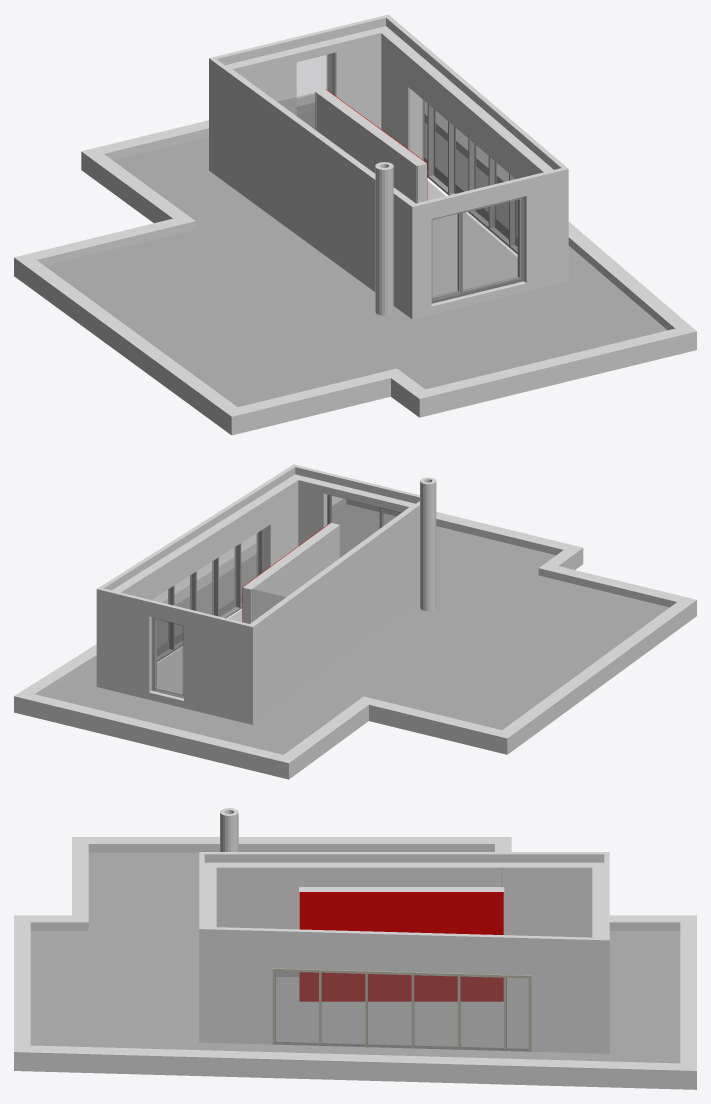
3 renders of one model, top to bottom at view 1: azimuth 30°, elevation 25°; view 2: azimuth 150°, elevation 25°; view 3: azimuth 270°, elevation 25°, orthographic. The views are drawn at different scales.
Visible parts, largest first — view 1: 0hm_TZ7fj2wQv5AxxV1KqF, 2WZdO$9lP51fVli8sT5dFZ, 1XbKhGD91DvhOpYZbhzGTI, 2ABTOtP4HAZgIuV7LUYbfs, 2eKNhkT$f0P8WjqeWWO9d3, 3v_fSEaFj0kvittt0GMC6P, 3VFVgZuu9FQuS2Mqppb_Sx, 1xDxwUqSzFmuKUZMtQ$inu, 0esmtE2Hf1Gh7NvUntvp15, 1E8YkwPMfB$h99jtn_uAjI, 2k7AL9Q4vAfOld2Ju8s3DV, 1BGpia0iv9cfH1lqT0_P80 (+15 smaller); view 2: 0hm_TZ7fj2wQv5AxxV1KqF, 2WZdO$9lP51fVli8sT5dFZ, 1mrgg_O_bBBv_tvdtVwK59, 1JvbY8kMDEABlCGvBALl1o, 3VFVgZuu9FQuS2Mqppb_Sx, 3v_fSEaFj0kvittt0GMC6P, 1E8YkwPMfB$h99jtn_uAjI, 3qjAeGBfzBuuFMRvmfvcZp, 12tTUwhDX7_Q0B3Y0eszsq, 1BGpia0iv9cfH1lqT0_P80, 3fk360iVDEdvsphxoNSy5M, 2eKNhkT$f0P8WjqeWWO9d3 (+16 smaller); view 3: 0hm_TZ7fj2wQv5AxxV1KqF, 1E8YkwPMfB$h99jtn_uAjI, 1BGpia0iv9cfH1lqT0_P80, 2D8Lqs0AfAL91eMWImqY0y, 0esmtE2Hf1Gh7NvUntvp15, 2WZdO$9lP51fVli8sT5dFZ, 3yGz3Axn9C_Oiq75x5GOZW, 3v_fSEaFj0kvittt0GMC6P, 0fovPR3hjBTOiDxHc0SKR9, 2UKE52UPL1ePRWFkZqVfWm, 28Fol_2rT8D93IPNMW2ztB, 14rw$C3xD3ZeUJL3YaqCEK (+13 smaller).
Boxes of the visible parts, x1,y1,x2,y2 form: 0hm_TZ7fj2wQv5AxxV1KqF: [45, 111, 667, 406]; 2WZdO$9lP51fVli8sT5dFZ: [211, 59, 414, 317]; 1XbKhGD91DvhOpYZbhzGTI: [409, 167, 568, 319]; 2ABTOtP4HAZgIuV7LUYbfs: [431, 196, 523, 303]; 2eKNhkT$f0P8WjqeWWO9d3: [416, 326, 696, 417]; 3v_fSEaFj0kvittt0GMC6P: [16, 258, 242, 435]; 3VFVgZuu9FQuS2Mqppb_Sx: [381, 32, 543, 178]; 1xDxwUqSzFmuKUZMtQ$inu: [232, 32, 381, 129]; 0esmtE2Hf1Gh7NvUntvp15: [427, 180, 517, 296]; 1E8YkwPMfB$h99jtn_uAjI: [377, 14, 565, 171]; 2k7AL9Q4vAfOld2Ju8s3DV: [234, 368, 401, 433]; 1BGpia0iv9cfH1lqT0_P80: [424, 101, 693, 330]; 0hm_TZ7fj2wQv5AxxV1KqF: [43, 504, 669, 754]; 2WZdO$9lP51fVli8sT5dFZ: [250, 501, 419, 722]; 1mrgg_O_bBBv_tvdtVwK59: [100, 588, 255, 724]; 1JvbY8kMDEABlCGvBALl1o: [14, 692, 291, 779]; 3VFVgZuu9FQuS2Mqppb_Sx: [120, 480, 298, 599]; 3v_fSEaFj0kvittt0GMC6P: [502, 598, 696, 752]; 1E8YkwPMfB$h99jtn_uAjI: [96, 466, 297, 687]; 3qjAeGBfzBuuFMRvmfvcZp: [359, 696, 509, 754]; 12tTUwhDX7_Q0B3Y0eszsq: [252, 525, 338, 621]; 1BGpia0iv9cfH1lqT0_P80: [17, 496, 346, 695]; 3fk360iVDEdvsphxoNSy5M: [151, 617, 183, 698]; 2eKNhkT$f0P8WjqeWWO9d3: [346, 499, 583, 565]; 0hm_TZ7fj2wQv5AxxV1KqF: [30, 852, 680, 1063]; 1E8YkwPMfB$h99jtn_uAjI: [204, 927, 609, 1053]; 1BGpia0iv9cfH1lqT0_P80: [19, 1045, 691, 1089]; 2D8Lqs0AfAL91eMWImqY0y: [299, 892, 503, 1001]; 0esmtE2Hf1Gh7NvUntvp15: [275, 977, 528, 1051]; 2WZdO$9lP51fVli8sT5dFZ: [204, 852, 604, 887]; 3yGz3Axn9C_Oiq75x5GOZW: [502, 867, 592, 937]; 3v_fSEaFj0kvittt0GMC6P: [72, 837, 505, 852]; 0fovPR3hjBTOiDxHc0SKR9: [216, 867, 301, 976]; 2UKE52UPL1ePRWFkZqVfWm: [301, 867, 501, 886]; 28Fol_2rT8D93IPNMW2ztB: [367, 974, 411, 1048]; 14rw$C3xD3ZeUJL3YaqCEK: [321, 972, 365, 1046].
Size of the model in its own units: 11.94 by 3.75 by 14.73.
